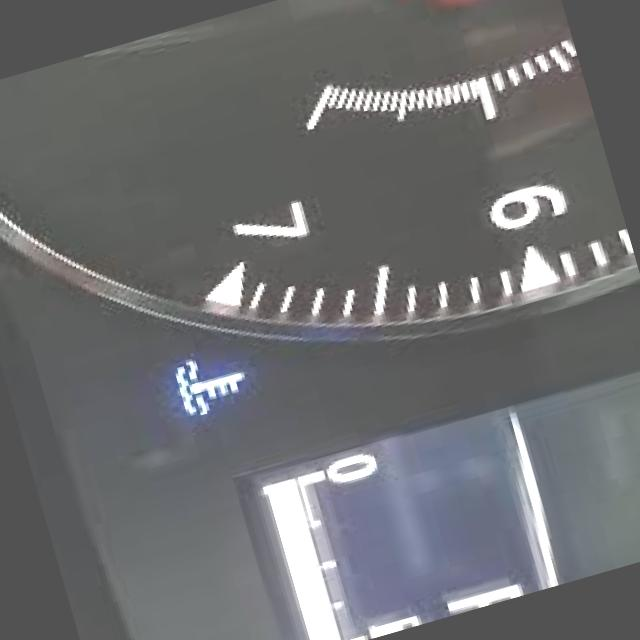kontrolka: (156, 339, 262, 430)
